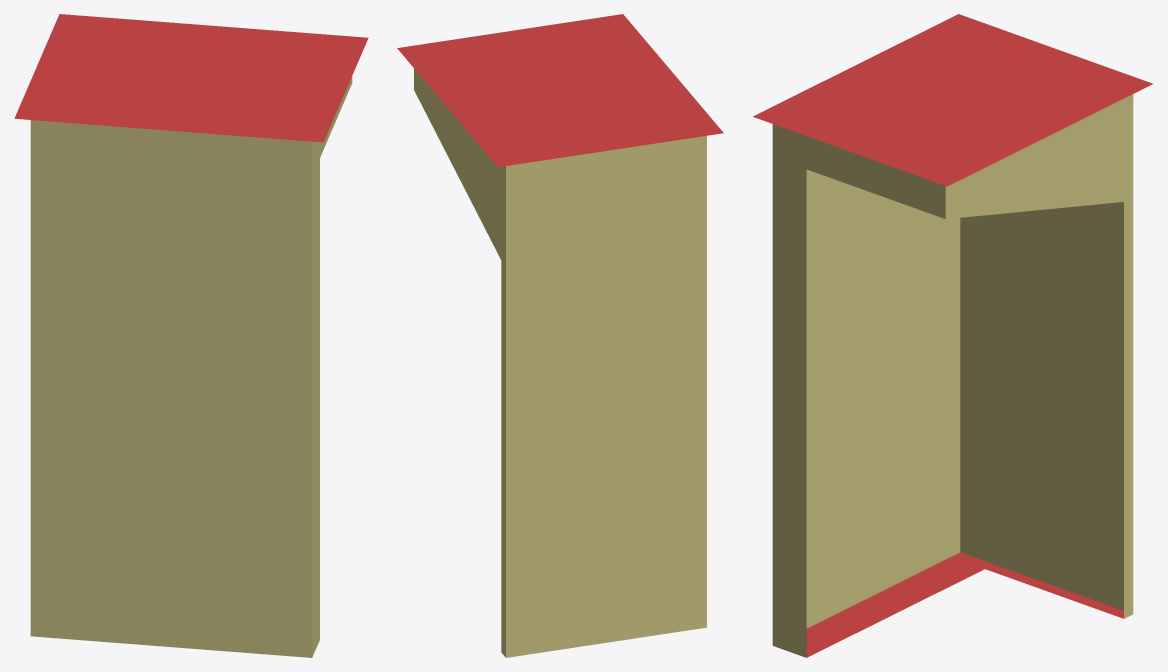
3 renders of one model, left to right at view 1: azimuth 30°, elevation 25°; view 2: azimuth 150°, elevation 25°; view 3: azimuth 270°, elevation 25°, orthographic. The views are drawn at different scales.
Size of the model in its own units: 7.16 by 7.03 by 10.25.
